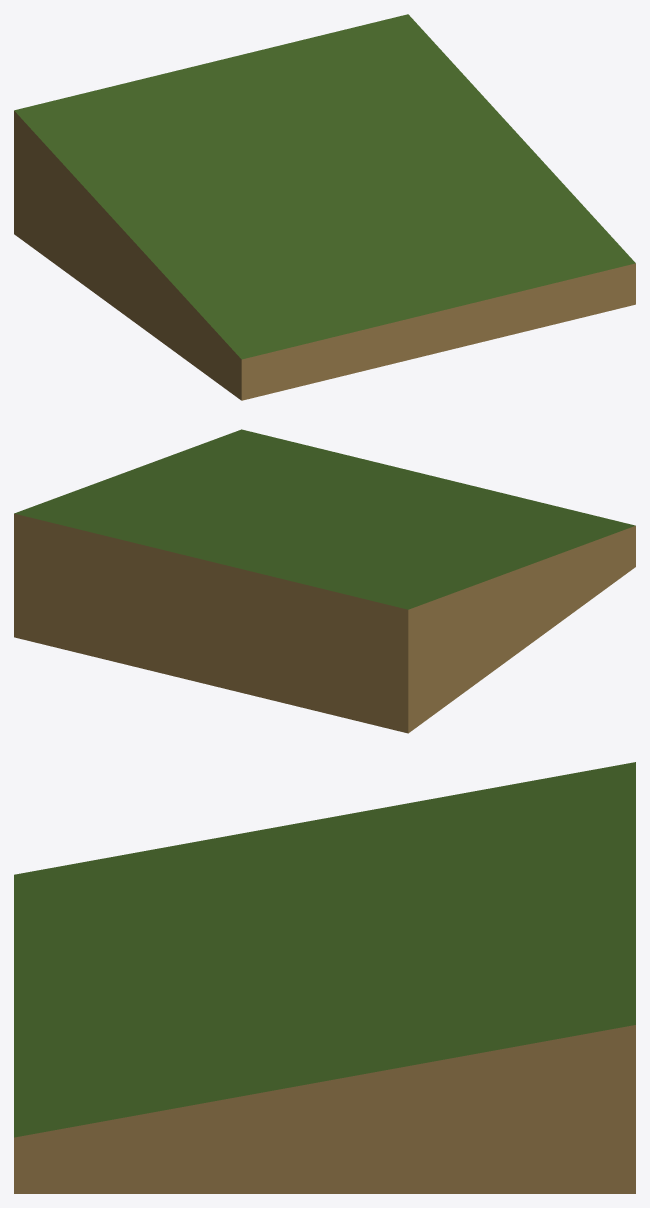
The model's file is Terrain_Modular_Tiles_Grass_Dirt_Ramp_Large_01.fbx.
The picture shows the model from 3 angles, top to bottom: view 1: azimuth 30°, elevation 25°; view 2: azimuth 150°, elevation 25°; view 3: azimuth 270°, elevation 25°; orthographic projection. The views are drawn at different scales.
Parts seen in each view (by area): view 1: Terrain_Modular_Tiles_Grass_Dirt_Ramp_Large_01; view 2: Terrain_Modular_Tiles_Grass_Dirt_Ramp_Large_01; view 3: Terrain_Modular_Tiles_Grass_Dirt_Ramp_Large_01.
Part boxes in pixels (bbox=[...]): Terrain_Modular_Tiles_Grass_Dirt_Ramp_Large_01: bbox=[14, 14, 635, 400]; Terrain_Modular_Tiles_Grass_Dirt_Ramp_Large_01: bbox=[14, 429, 635, 733]; Terrain_Modular_Tiles_Grass_Dirt_Ramp_Large_01: bbox=[14, 762, 635, 1193].
Size of the model in its own units: 3000 by 900 by 3000.
